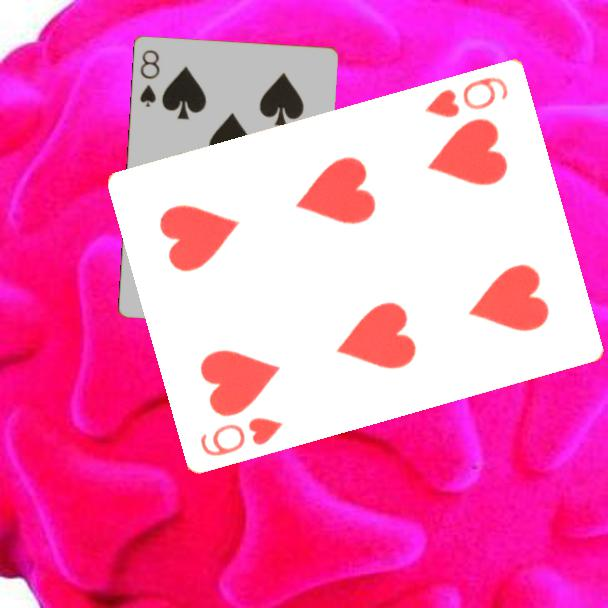h06: (422, 72, 512, 120), (197, 413, 286, 459)
s08: (136, 46, 162, 110)
